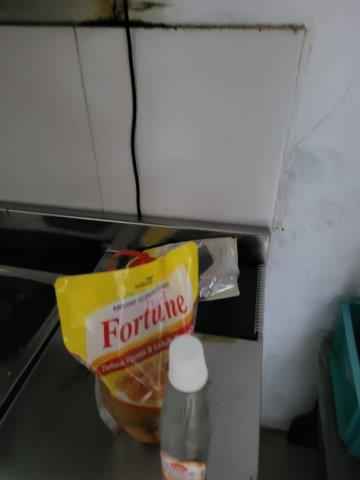botolkaca: (161, 336, 212, 480)
